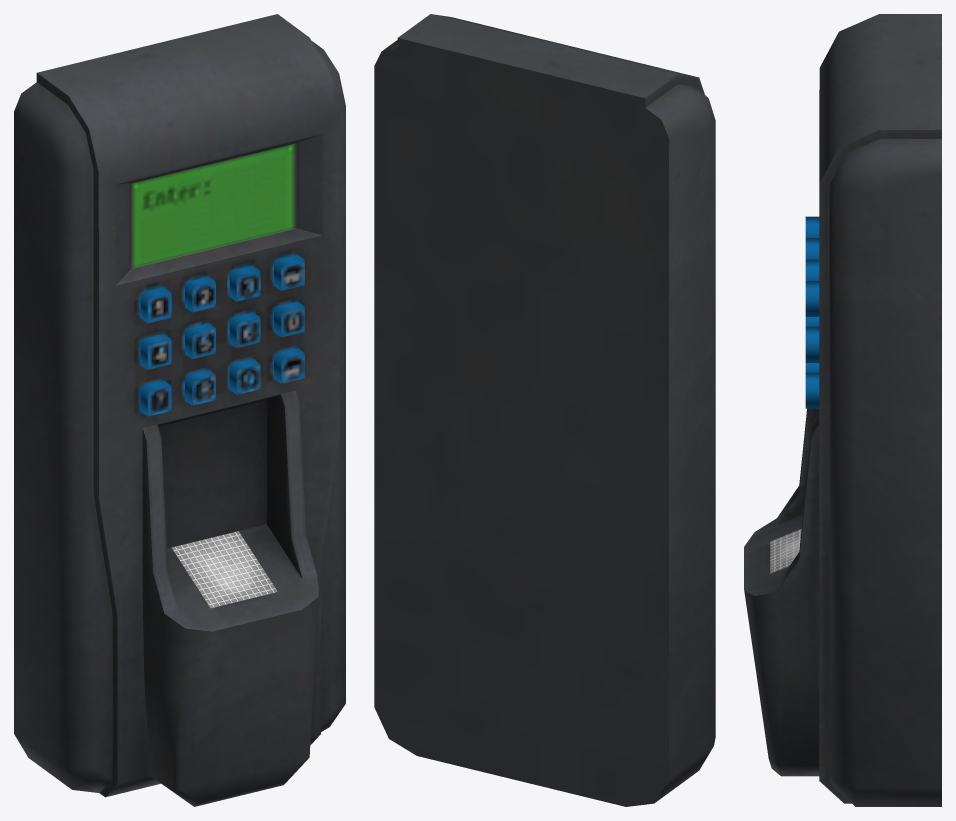
The model's file is ctl_biometric_lock_lod1.glb.
3 views of the same model, side by side, from view 1: azimuth 30°, elevation 25°; view 2: azimuth 150°, elevation 25°; view 3: azimuth 270°, elevation 25° (orthographic). The views are drawn at different scales.
Parts seen in each view (by area): view 1: surf0, surf1; view 2: surf0; view 3: surf0, surf1.
Part boxes in pixels (x1=…): surf0: x1=14, y1=14, x2=345, y2=806; surf1: x1=132, y1=144, x2=304, y2=608; surf0: x1=374, y1=14, x2=715, y2=806; surf0: x1=744, y1=14, x2=941, y2=806; surf1: x1=770, y1=216, x2=819, y2=573.
Size of the model in its own units: 5.15 by 11.91 by 3.12.
